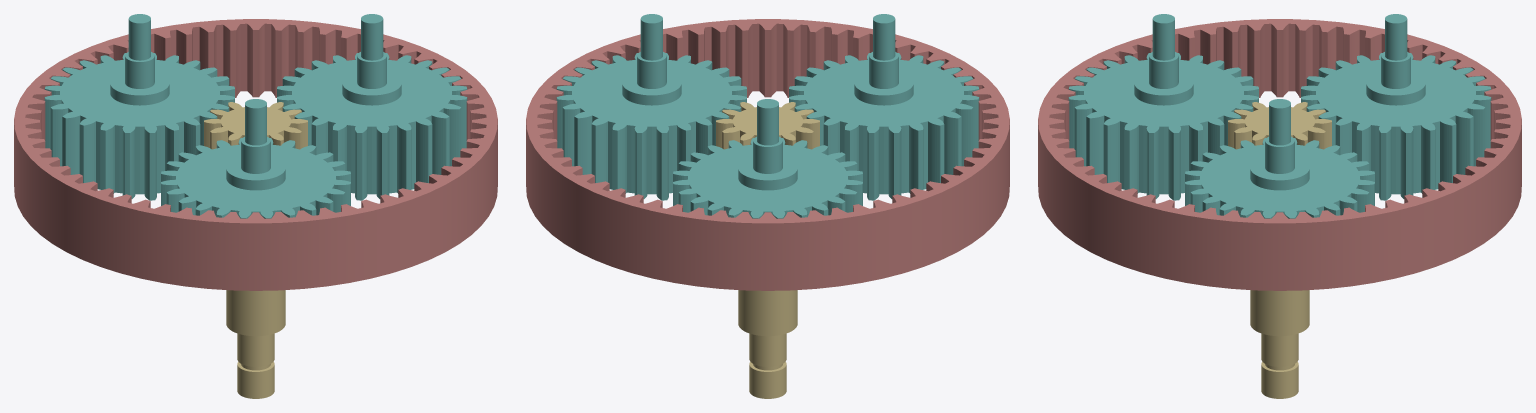
Rendered from step_16.glb.
The picture shows the model from 3 angles, left to right: view 1: azimuth 30°, elevation 25°; view 2: azimuth 150°, elevation 25°; view 3: azimuth 270°, elevation 25°; orthographic projection.
Visible parts, largest first — view 1: part__ring gear, part__planet gear 1, part__planet gear 2, part__planet gear 3, part__sun gear; view 2: part__ring gear, part__planet gear 1, part__planet gear 3, part__planet gear 2, part__sun gear; view 3: part__ring gear, part__planet gear 2, part__planet gear 3, part__planet gear 1, part__sun gear.
Part boxes in pixels (box(x1,y1,x2,y2)): part__ring gear: box(14, 19, 497, 290); part__planet gear 1: box(277, 14, 467, 200); part__planet gear 2: box(44, 14, 234, 200); part__planet gear 3: box(161, 99, 350, 218); part__sun gear: box(204, 102, 307, 398); part__ring gear: box(526, 19, 1009, 290); part__planet gear 1: box(556, 14, 746, 200); part__planet gear 3: box(789, 14, 979, 200); part__planet gear 2: box(673, 99, 862, 218); part__sun gear: box(716, 102, 819, 398); part__ring gear: box(1038, 19, 1521, 290); part__planet gear 2: box(1301, 14, 1491, 200); part__planet gear 3: box(1068, 14, 1258, 200); part__planet gear 1: box(1185, 99, 1374, 218); part__sun gear: box(1228, 102, 1331, 398).
Bounding box in the file's own units: 64.96 × 51 × 64.98.
